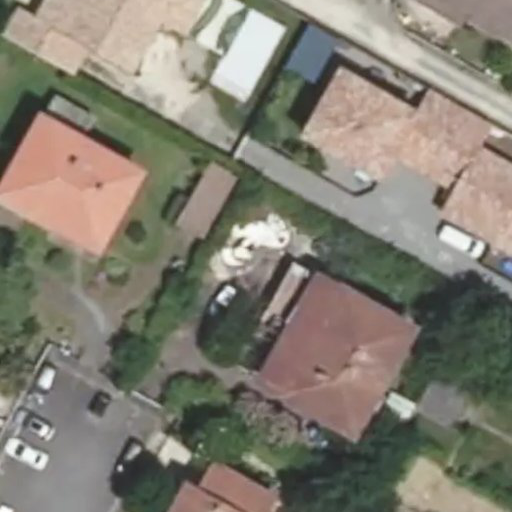pool: (216, 238, 293, 245)
